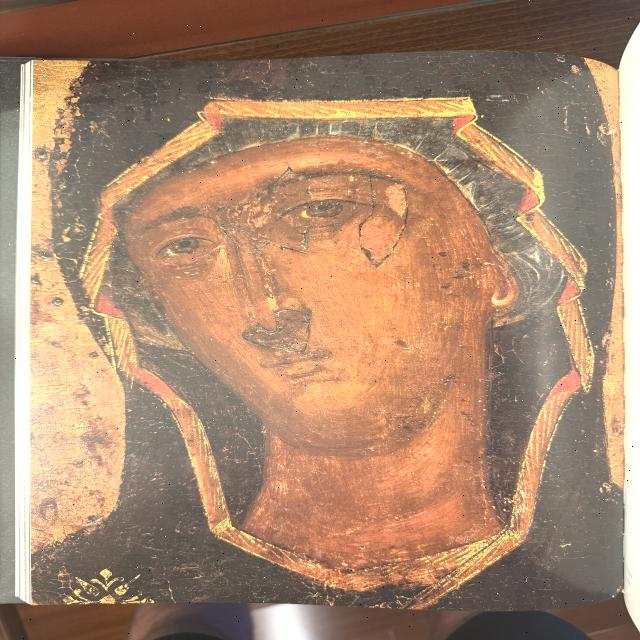mary: (36, 59, 612, 605)
